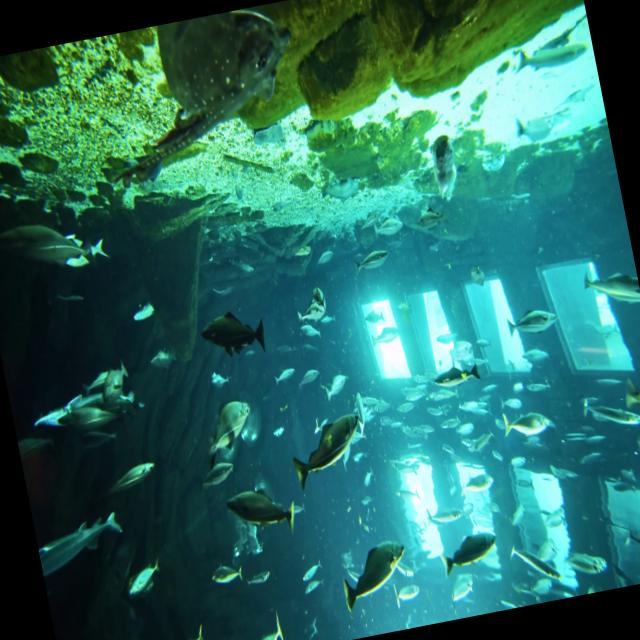fish: (33, 504, 133, 595), (328, 528, 422, 624), (282, 405, 379, 495), (0, 199, 90, 292), (216, 471, 312, 550), (191, 298, 275, 380), (428, 518, 513, 594), (570, 378, 640, 457), (100, 447, 166, 507), (509, 532, 568, 596), (197, 546, 256, 608), (427, 346, 491, 403), (490, 398, 556, 451), (581, 261, 640, 320), (563, 530, 619, 592), (503, 299, 568, 346), (118, 550, 167, 602), (229, 611, 297, 640), (148, 616, 219, 640), (522, 336, 566, 372), (617, 368, 640, 435)
